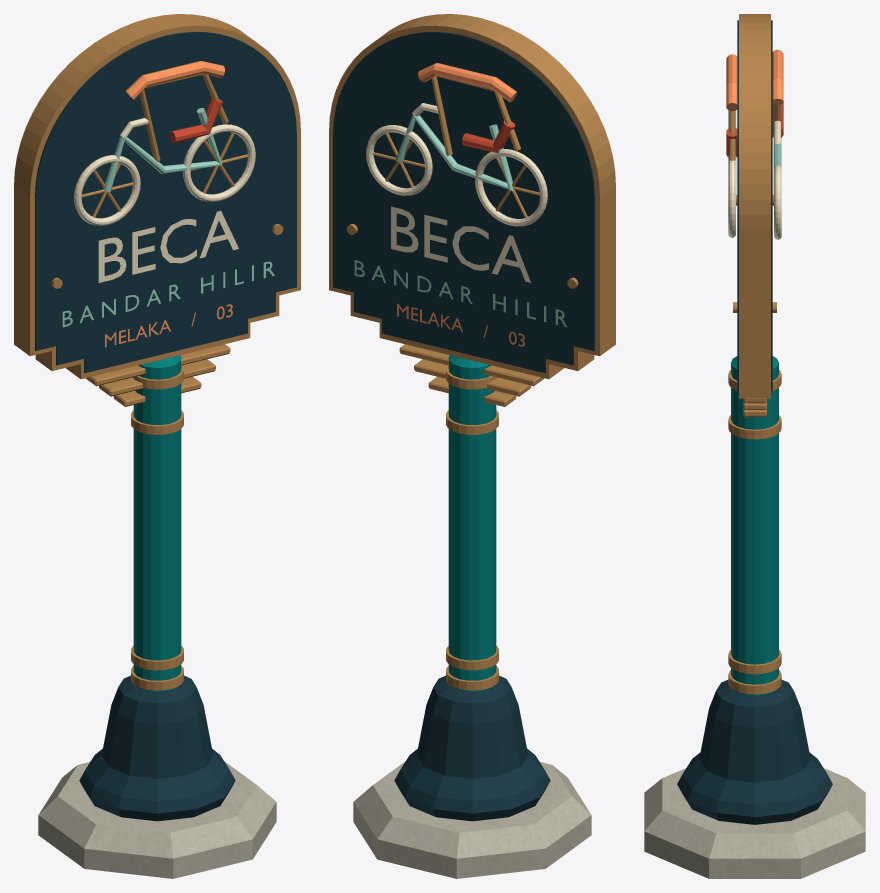
3 views of the same model, side by side, from view 1: azimuth 30°, elevation 25°; view 2: azimuth 150°, elevation 25°; view 3: azimuth 270°, elevation 25° (orthographic).
Parts seen in each view (by area): view 1: Double faced enamel, Fluted cast base, Footing, Enamel mast, Gilt rank crest, Enamel lettering, Raised ivory wheels, Stepped brass collar fins, Brass mast collars, Trishaw cycle frame, Rickshaw canopy, Wheel spokes (+2 smaller); view 2: Double faced enamel, Fluted cast base, Footing, Enamel mast, Gilt rank crest, Enamel lettering, Raised ivory wheels, Stepped brass collar fins, Brass mast collars, Trishaw cycle frame, Rickshaw canopy, Canopy pillars (+2 smaller); view 3: Fluted cast base, Footing, Enamel mast, Gilt rank crest, Brass mast collars, Double faced enamel, Rickshaw canopy, Raised ivory wheels, Stepped brass collar fins.
Part boxes in pixels (<box>): Double faced enamel: <box>35,32,296,372</box>; Fluted cast base: <box>79,675,235,821</box>; Footing: <box>38,761,276,878</box>; Enamel mast: <box>133,355,181,691</box>; Gilt rank crest: <box>14,14,300,379</box>; Enamel lettering: <box>62,210,274,347</box>; Raised ivory wheels: <box>74,124,255,225</box>; Stepped brass collar fins: <box>86,344,230,406</box>; Brass mast collars: <box>131,365,183,690</box>; Trishaw cycle frame: <box>103,108,222,191</box>; Rickshaw canopy: <box>126,61,224,99</box>; Wheel spokes: <box>81,132,248,217</box>; Double faced enamel: <box>333,32,594,372</box>; Fluted cast base: <box>394,675,550,821</box>; Footing: <box>353,761,591,878</box>; Enamel mast: <box>448,355,496,691</box>; Gilt rank crest: <box>329,14,615,379</box>; Enamel lettering: <box>354,206,566,346</box>; Raised ivory wheels: <box>366,125,547,226</box>; Stepped brass collar fins: <box>399,344,543,406</box>; Brass mast collars: <box>446,365,498,690</box>; Trishaw cycle frame: <box>395,113,514,190</box>; Rickshaw canopy: <box>418,63,517,102</box>; Canopy pillars: <box>431,75,520,155</box>; Fluted cast base: <box>677,680,832,824</box>; Footing: <box>644,768,865,878</box>; Enamel mast: <box>731,356,778,695</box>; Gilt rank crest: <box>739,14,770,398</box>; Brass mast collars: <box>728,370,781,694</box>; Double faced enamel: <box>737,20,772,391</box>; Rickshaw canopy: <box>726,49,783,111</box>; Raised ivory wheels: <box>728,138,781,239</box>; Stepped brass collar fins: <box>743,398,766,416</box>.
Size of the model in its own units: 1.12 by 3.18 by 0.7945.
Materials: 8 (1 with a texture image).
